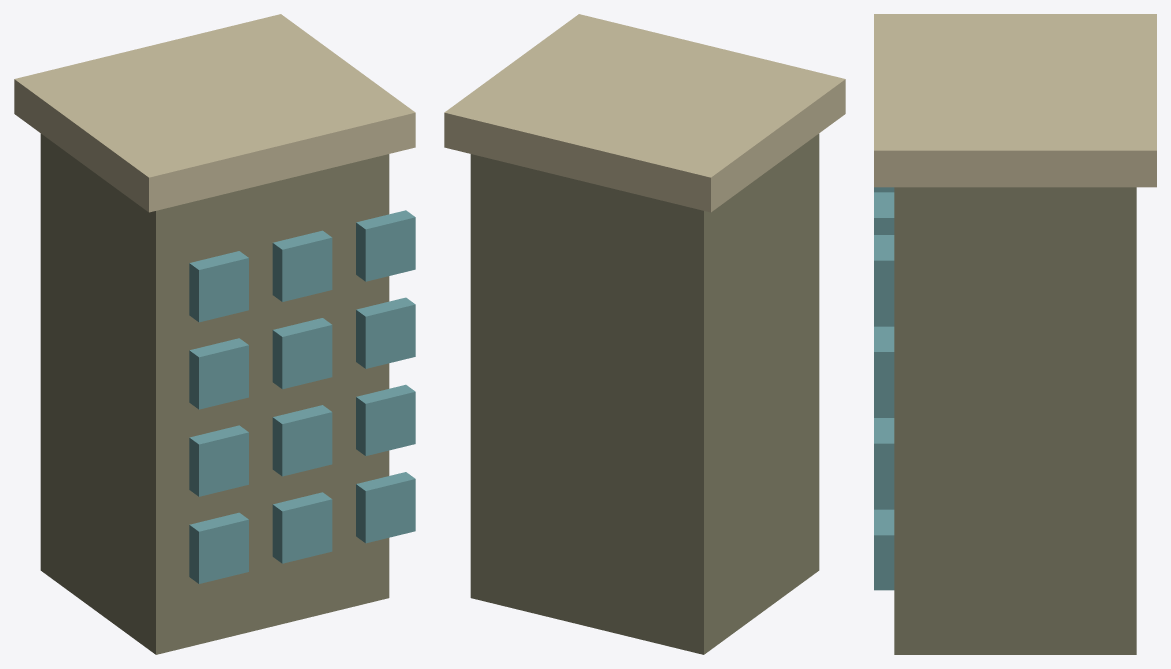
Rendered from civic-19.glb.
3 renders of one model, left to right at view 1: azimuth 30°, elevation 25°; view 2: azimuth 150°, elevation 25°; view 3: azimuth 270°, elevation 25°, orthographic. The views are drawn at different scales.
Parts seen in each view (by area): view 1: Water tower; view 2: Water tower; view 3: Water tower.
Part boxes in pixels (<box>): Water tower: <box>14,14,415,654</box>; Water tower: <box>444,14,845,654</box>; Water tower: <box>874,14,1156,654</box>.
Bounding box in the file's own units: 1.28 × 2.24 × 1.12.
